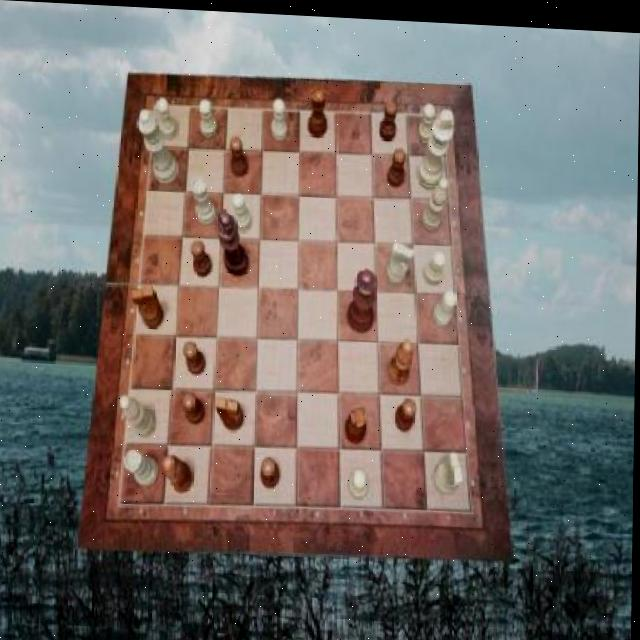bishop: (163, 453, 194, 492), (390, 334, 415, 381)
black-bishop: (217, 206, 252, 273)
black-king: (132, 284, 165, 328), (215, 393, 246, 429)
black-knight: (183, 338, 207, 373), (192, 237, 214, 274), (395, 393, 418, 428), (231, 134, 250, 175), (183, 389, 206, 422), (389, 143, 407, 184), (380, 99, 398, 139), (262, 454, 282, 486)
black-pawn: (347, 265, 379, 330)
black-queen: (308, 83, 328, 135), (346, 401, 369, 440)
black-rook: (121, 393, 157, 436), (422, 171, 449, 227)
white-bishop: (418, 103, 455, 186)
white-king: (435, 446, 465, 489), (388, 237, 416, 281)
white-knight: (433, 286, 457, 323), (157, 96, 178, 138), (423, 246, 446, 281), (233, 189, 253, 229), (200, 97, 219, 137), (417, 100, 435, 141), (271, 96, 288, 139), (350, 465, 369, 495)
white-pawn: (136, 107, 180, 183)
white-queen: (125, 447, 159, 486), (191, 176, 216, 224)
